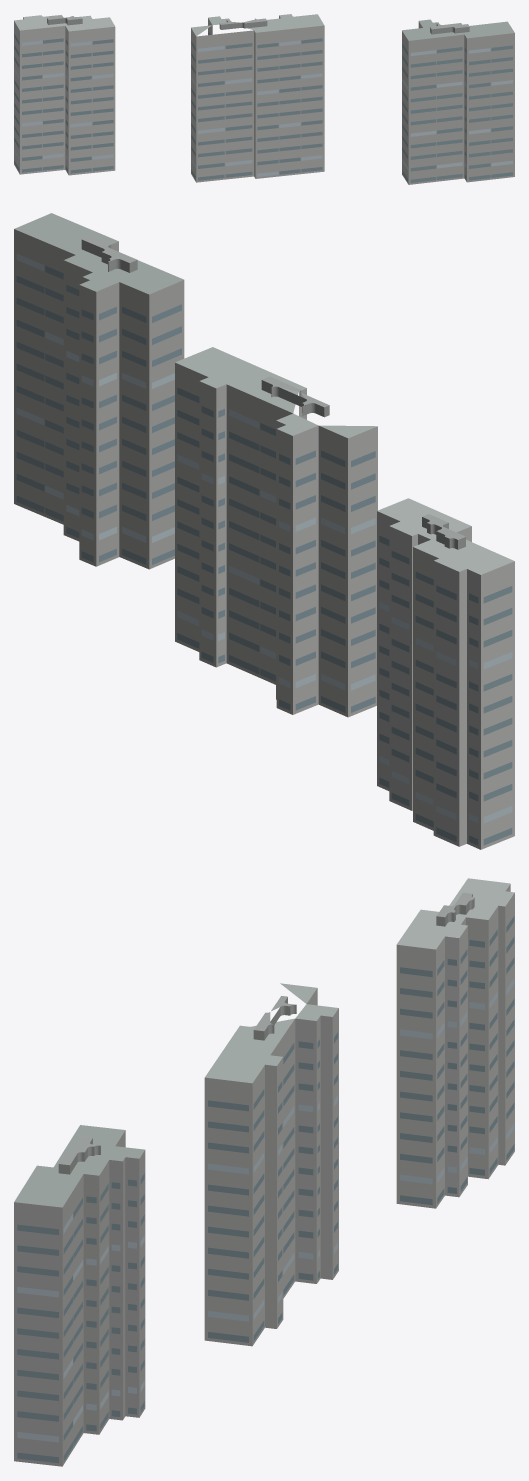
Rendered from apt-a12179001.glb.
The picture shows the model from 3 angles, top to bottom: view 1: azimuth 30°, elevation 25°; view 2: azimuth 150°, elevation 25°; view 3: azimuth 270°, elevation 25°; orthographic projection. The views are drawn at different scales.
Visible parts, largest first — view 1: apt-a12179001; view 2: apt-a12179001; view 3: apt-a12179001.
Boxes of the visible parts, x1,y1,x2,y2 form: apt-a12179001: [14, 14, 514, 184]; apt-a12179001: [14, 213, 514, 849]; apt-a12179001: [14, 878, 514, 1466].
Size of the model in its own units: 182 by 70 by 117.
